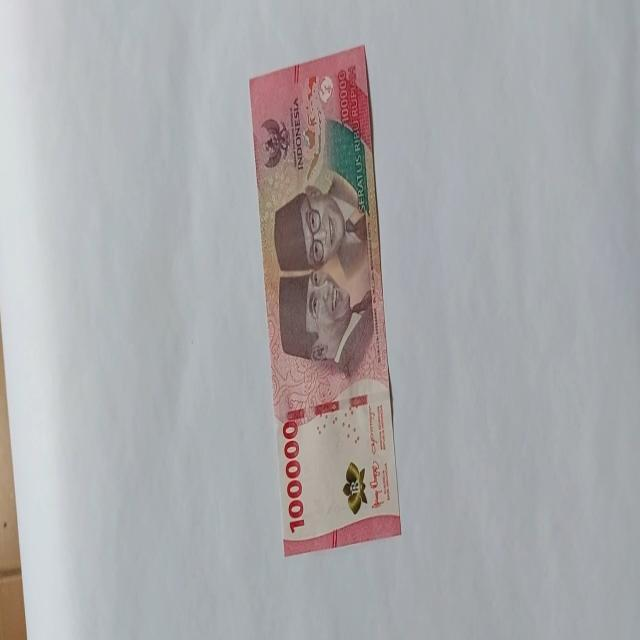seratus ribu rupiah: (248, 43, 402, 556)
